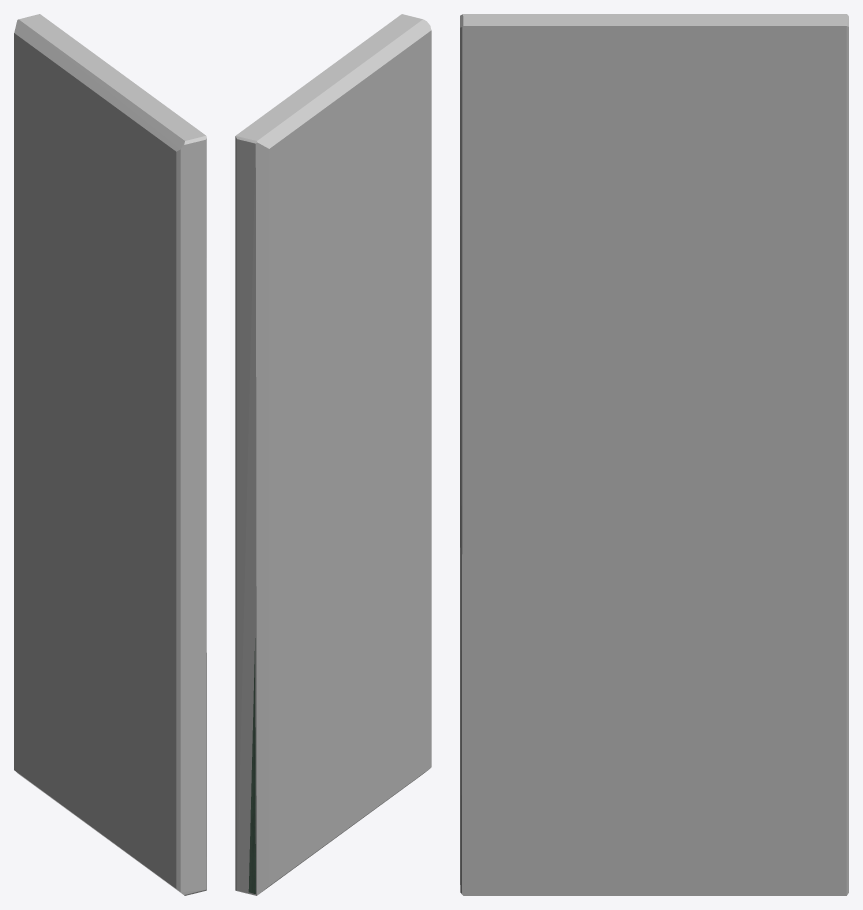
File: SM_MCJ_Door01A.fbx
The picture shows the model from 3 angles, left to right: view 1: azimuth 30°, elevation 25°; view 2: azimuth 150°, elevation 25°; view 3: azimuth 270°, elevation 25°; orthographic projection. The views are drawn at different scales.
Parts seen in each view (by area): view 1: SM_MCJ_Door01A_ConvexHulls; view 2: SM_MCJ_Door01A_ConvexHulls, SM_MCJ_Door01A; view 3: SM_MCJ_Door01A_ConvexHulls.
Part boxes in pixels (x1,y1,x2,y2): SM_MCJ_Door01A_ConvexHulls: (14, 14, 206, 895); SM_MCJ_Door01A_ConvexHulls: (235, 14, 431, 895); SM_MCJ_Door01A: (248, 638, 255, 893); SM_MCJ_Door01A_ConvexHulls: (460, 14, 848, 895).
Bounding box in the file's own units: 7.5 × 73.36 × 181.
